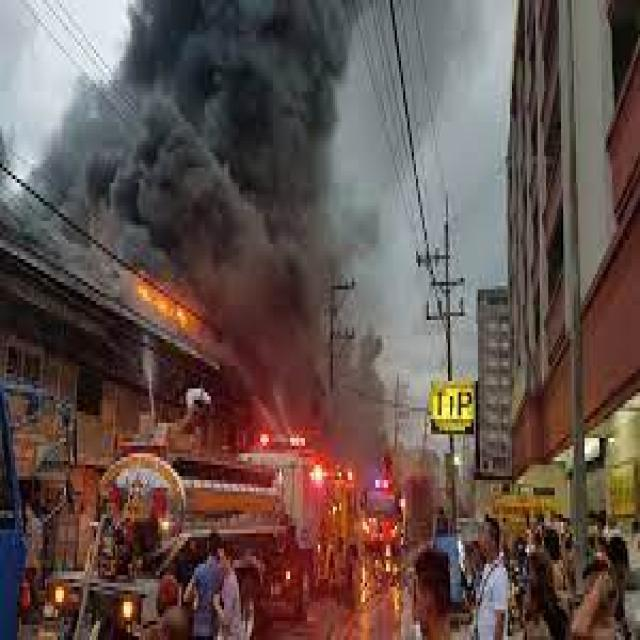Smoke: (57, 0, 368, 249), (200, 250, 385, 470)
